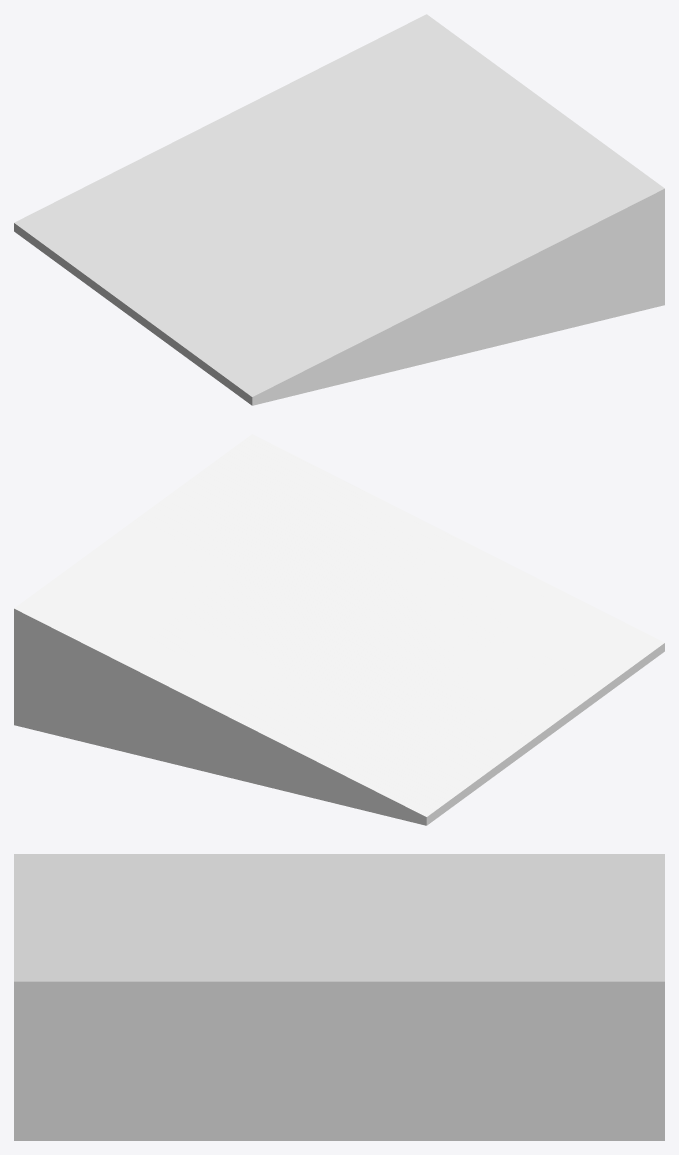
File: kenney-city-roads-tile-slant.glb
3 views of the same model, one above another, from view 1: azimuth 30°, elevation 25°; view 2: azimuth 150°, elevation 25°; view 3: azimuth 270°, elevation 25° (orthographic). The views are drawn at different scales.
Visible parts, largest first — view 1: tile-slant; view 2: tile-slant; view 3: tile-slant.
Boxes of the visible parts, box(x1,y1,x2,y2) form: tile-slant: box(14, 14, 664, 405); tile-slant: box(14, 434, 664, 825); tile-slant: box(14, 854, 664, 1140).
Bounding box in the file's own units: 1 × 0.2701 × 1.
1 material, 1 textured.
